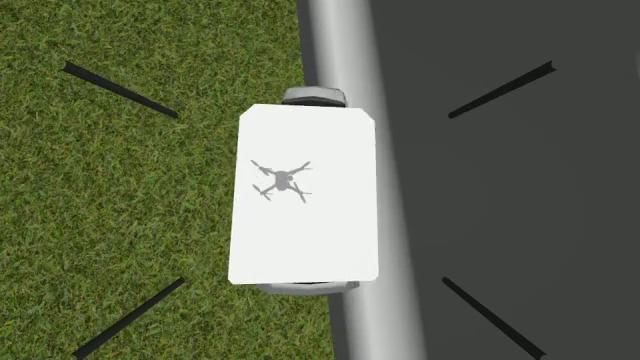Car: (228, 86, 378, 295)
